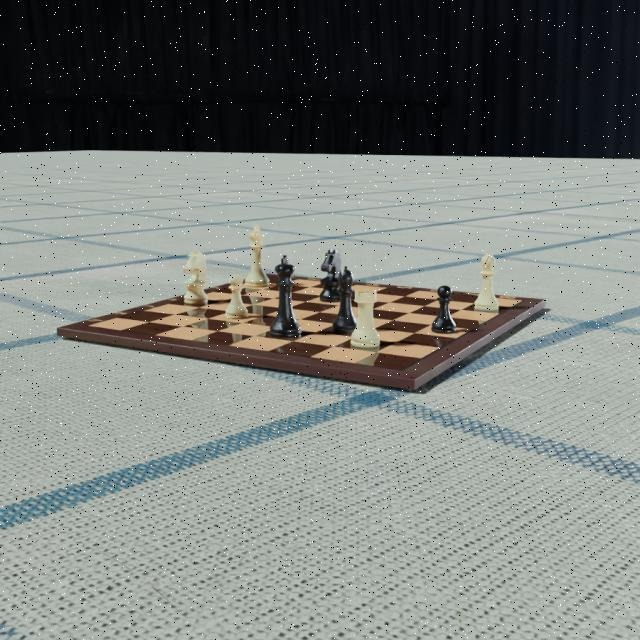black-bishop: (331, 265, 356, 334)
black-king: (270, 254, 302, 338)
black-knight: (317, 248, 342, 303)
black-pawn: (430, 285, 458, 335)
white-bishop: (473, 251, 502, 312)
white-king: (245, 223, 271, 288)
white-knight: (183, 250, 209, 306)
white-pawn: (225, 273, 249, 319)
white-rook: (350, 289, 381, 350)
